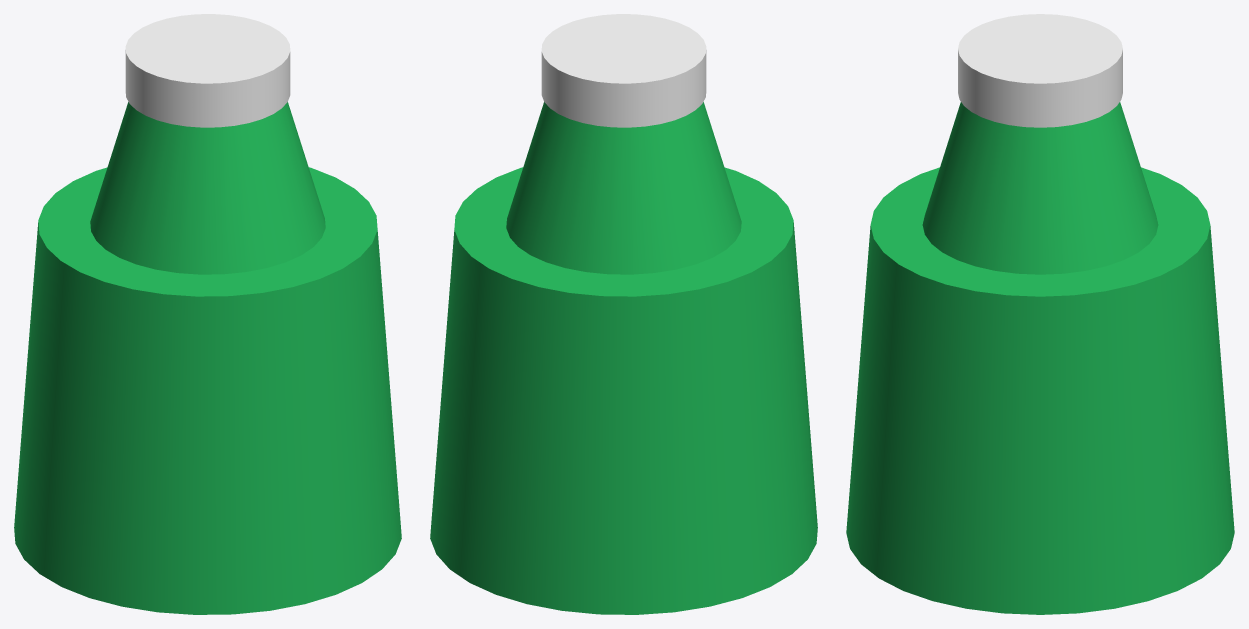
The model's file is bottle.glb.
The picture shows the model from 3 angles, left to right: view 1: azimuth 30°, elevation 25°; view 2: azimuth 150°, elevation 25°; view 3: azimuth 270°, elevation 25°; orthographic projection.
Visible parts, largest first — view 1: RecycledBottle; view 2: RecycledBottle; view 3: RecycledBottle.
Part boxes in pixels (bbox=[...]): RecycledBottle: bbox=[14, 14, 401, 614]; RecycledBottle: bbox=[430, 14, 817, 614]; RecycledBottle: bbox=[846, 14, 1234, 614].
Bounding box in the file's own units: 0.8 × 1.1 × 0.8.
